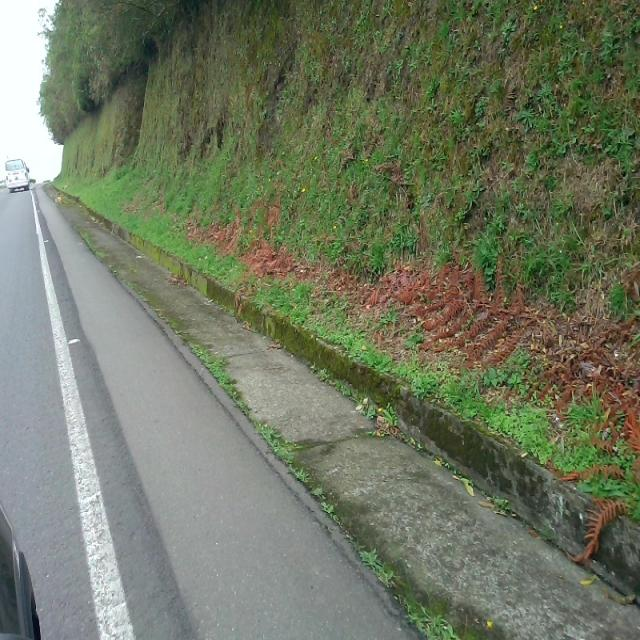DITCH: (41, 177, 638, 638), (22, 228, 258, 638)
